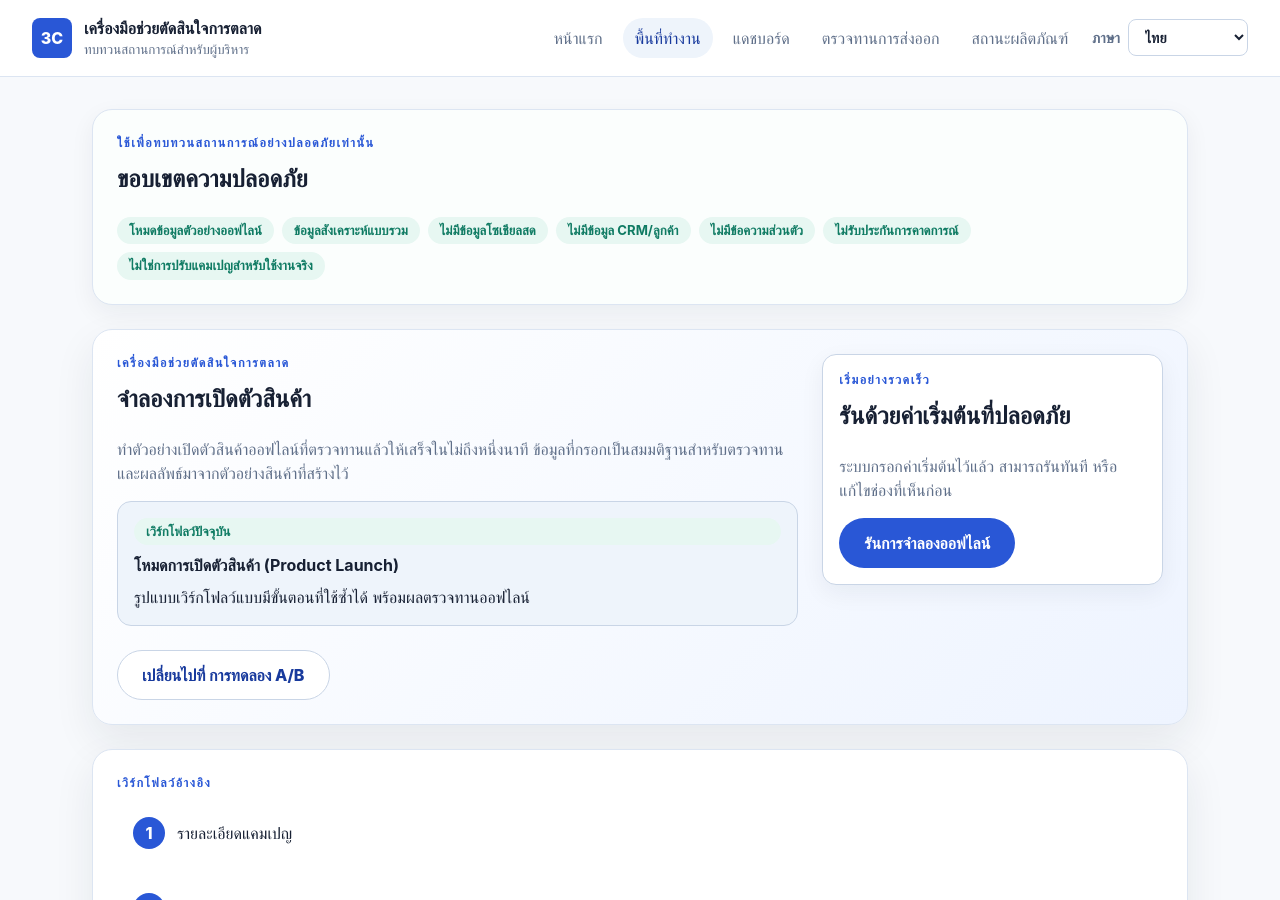
Scenario: M18 Thai-first internationalization › shows English Workbench defaults in English mode
Select "English" in the dropdown labelled "ภาษา" at (1188, 38), box [1128, 20, 1248, 56]
(page scrolled)
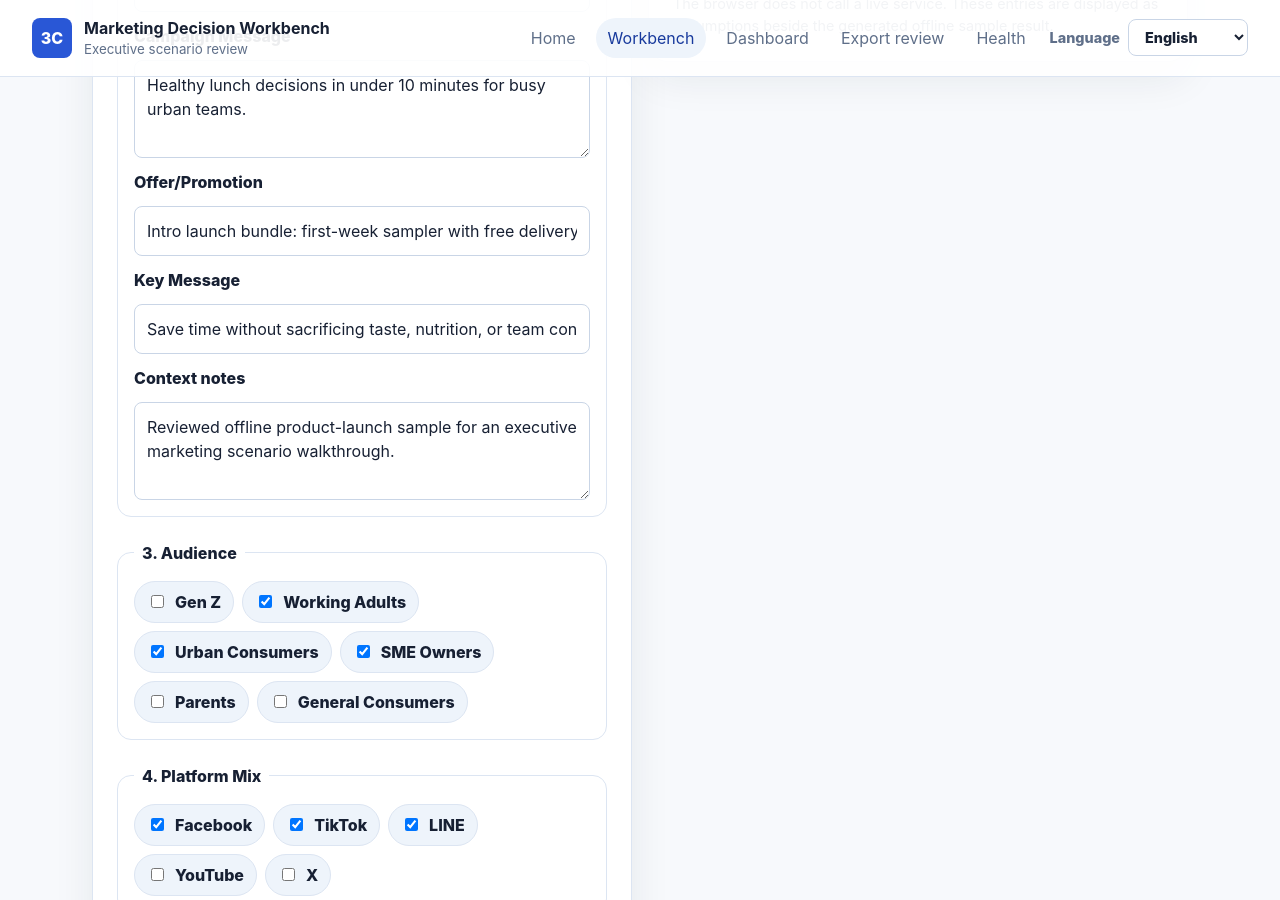
expect the text box labelled "Campaign Message" holds "Healthy lunch decisions in under 10 minutes for busy urban teams.": met, box [134, 60, 590, 158]
expect the field labelled "Offer/Promotion" holds "Intro launch bundle: first-week sampler with free delivery threshold.": met, box [134, 206, 590, 256]
expect the field labelled "Key Message" holds "Save time without sacrificing taste, nutrition, or team convenience.": met, box [134, 304, 590, 354]
